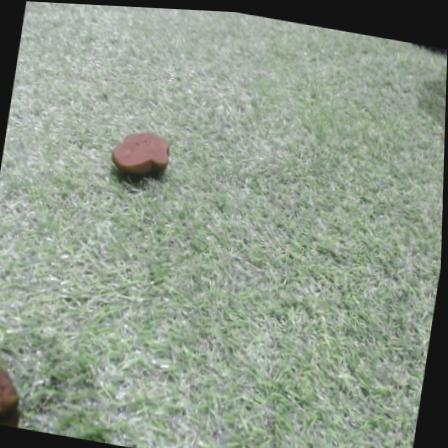dog-poop: (100, 116, 180, 190), (0, 353, 22, 425)
